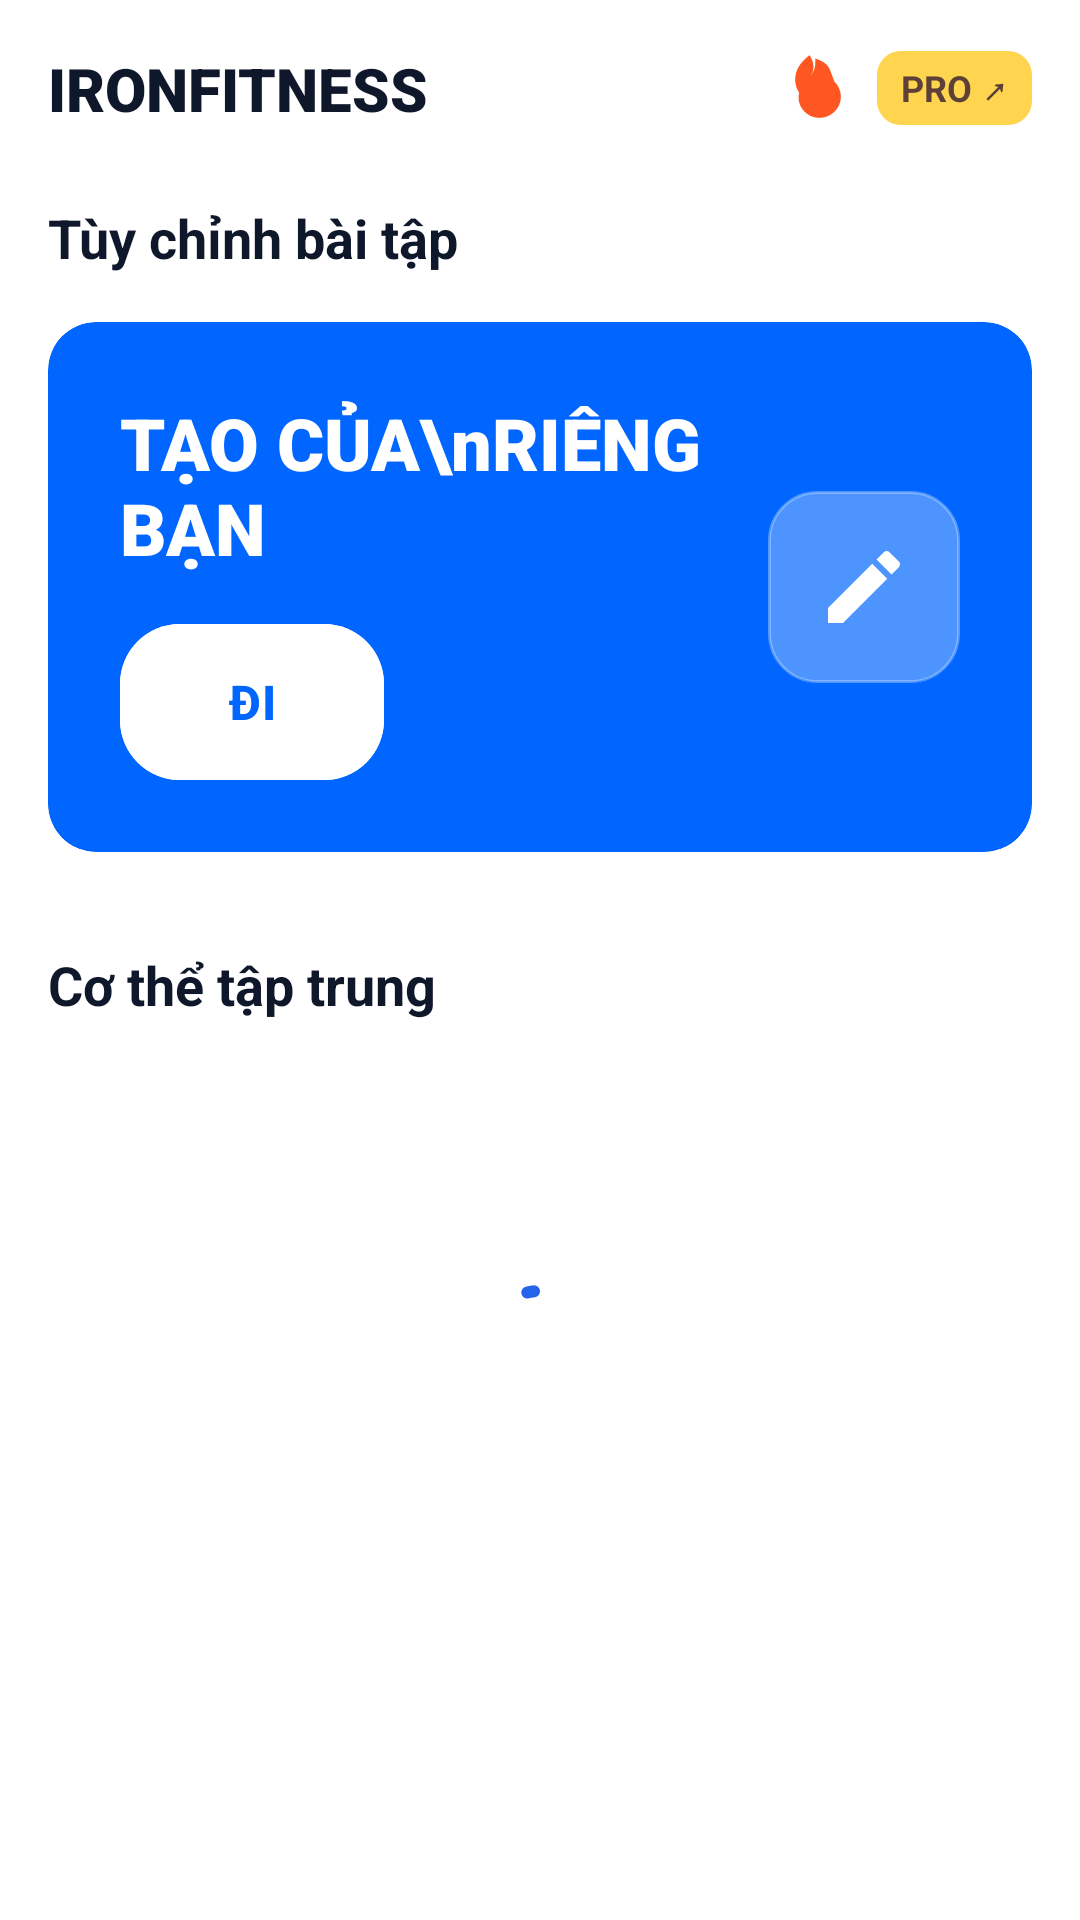

Where to tap for icons on this 1080 x 1920 app screen, as point (x, y):
edit: point (864, 587)
fire: point (818, 86)
